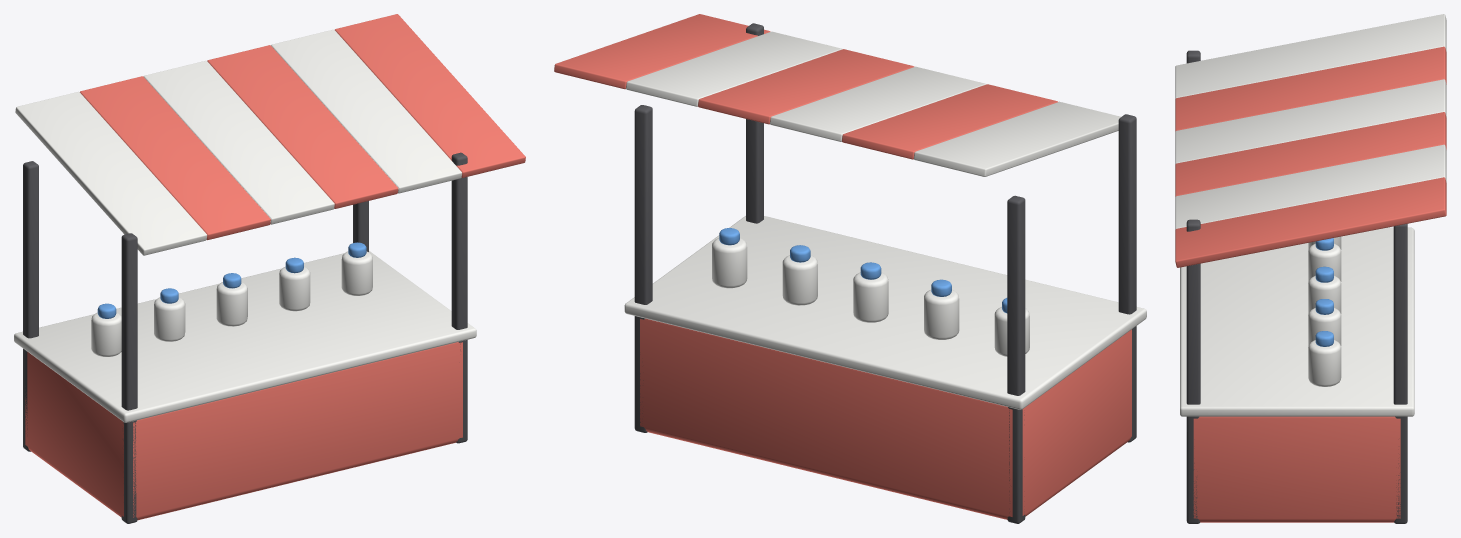
The model's file is Stragan_Rynek.fbx.
3 renders of one model, left to right at view 1: azimuth 30°, elevation 25°; view 2: azimuth 150°, elevation 25°; view 3: azimuth 270°, elevation 25°, orthographic. The views are drawn at different scales.
Parts seen in each view (by area): view 1: Stragan_Rynek; view 2: Stragan_Rynek; view 3: Stragan_Rynek.
Part boxes in pixels (bbox=[...]): Stragan_Rynek: bbox=[14, 14, 525, 523]; Stragan_Rynek: bbox=[554, 14, 1146, 523]; Stragan_Rynek: bbox=[1175, 14, 1446, 523].
Size of the model in its own units: 3.51 by 2.74 by 1.96.
